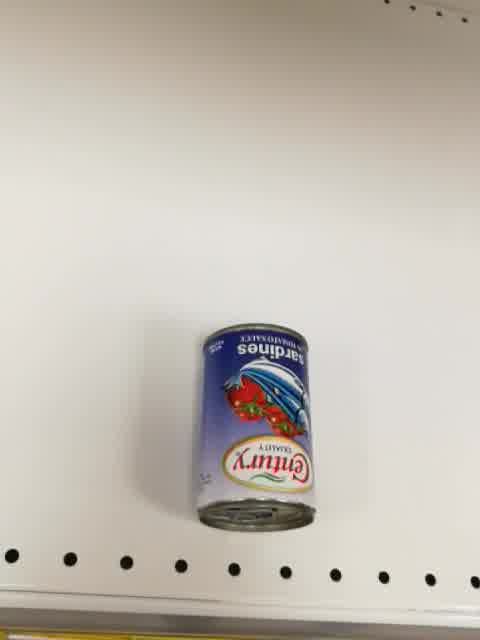sardine: (193, 322, 316, 534)
